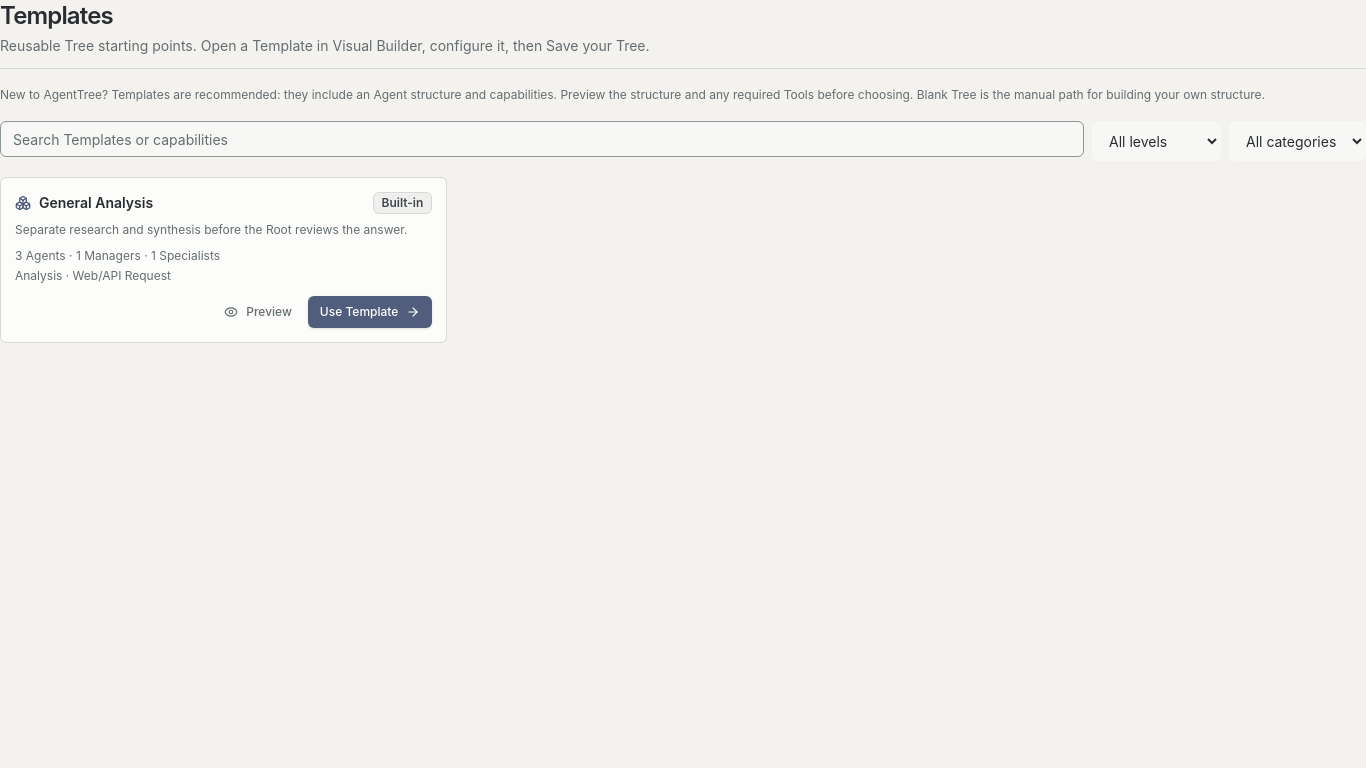
reusable Template catalog › previews the hierarchy, capabilities, tools, input, and output without creating a Tree
Click the button "Preview". click: (258, 312)
box: [212,296,304,328]
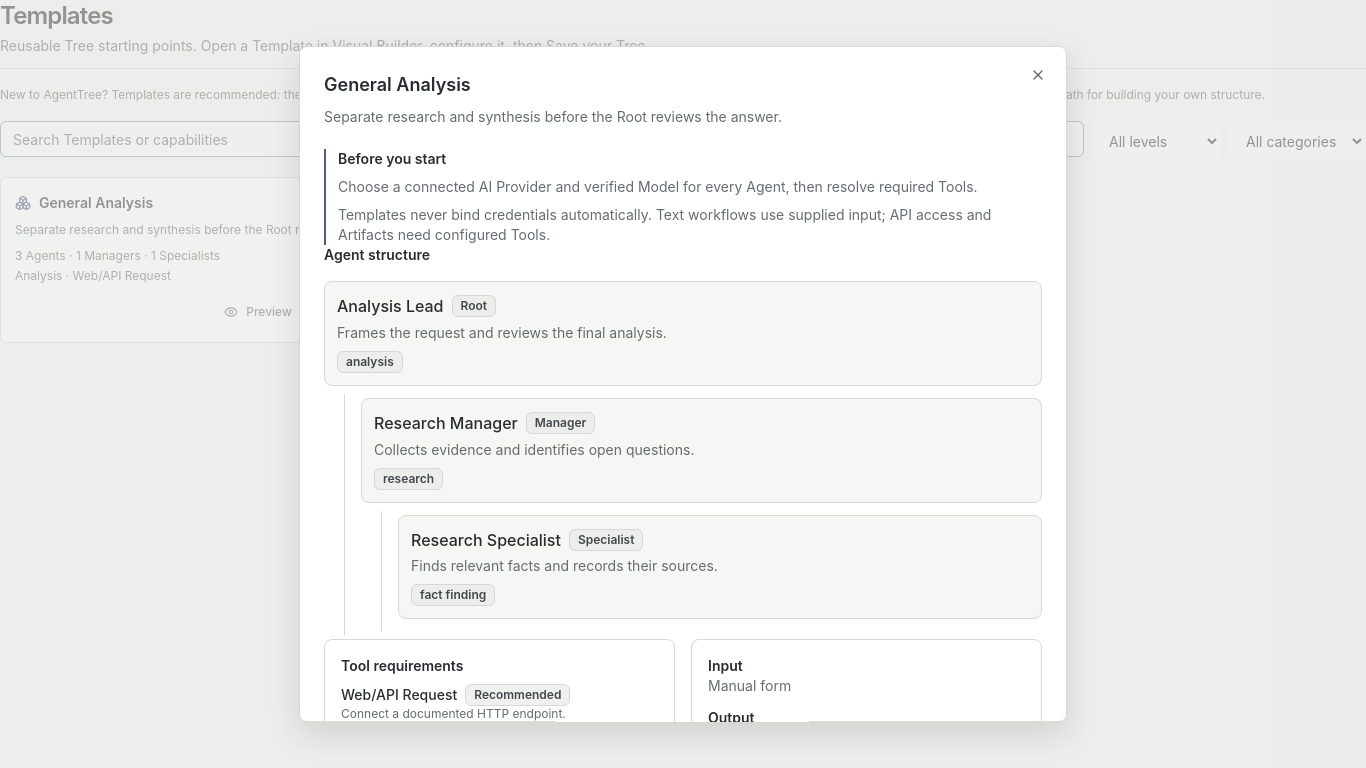
Expected: the text "Research Specialist" is shown, [411,528,561,552]
Expected: the text "Analysis · Web/API Request" is shown 2 times, [15,268,171,283]; [341,686,457,706]
Expected: the text "Manual form" is shown, [708,678,791,694]
